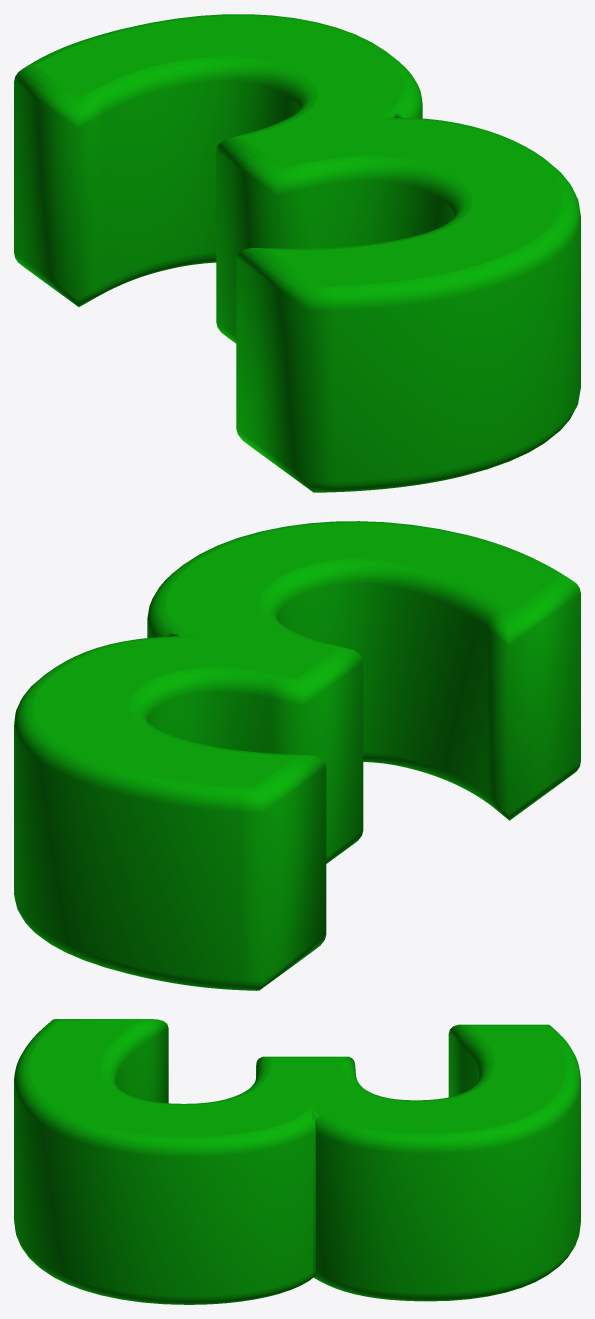
3 renders of one model, top to bottom at view 1: azimuth 30°, elevation 25°; view 2: azimuth 150°, elevation 25°; view 3: azimuth 270°, elevation 25°, orthographic. The views are drawn at different scales.
Parts seen in each view (by area): view 1: 3; view 2: 3; view 3: 3.
Boxes of the visible parts, x1,y1,x2,y2 form: 3: (14, 14, 580, 492); 3: (14, 521, 580, 990); 3: (14, 1019, 580, 1304).
Size of the model in its own units: 40 by 24 by 74.
